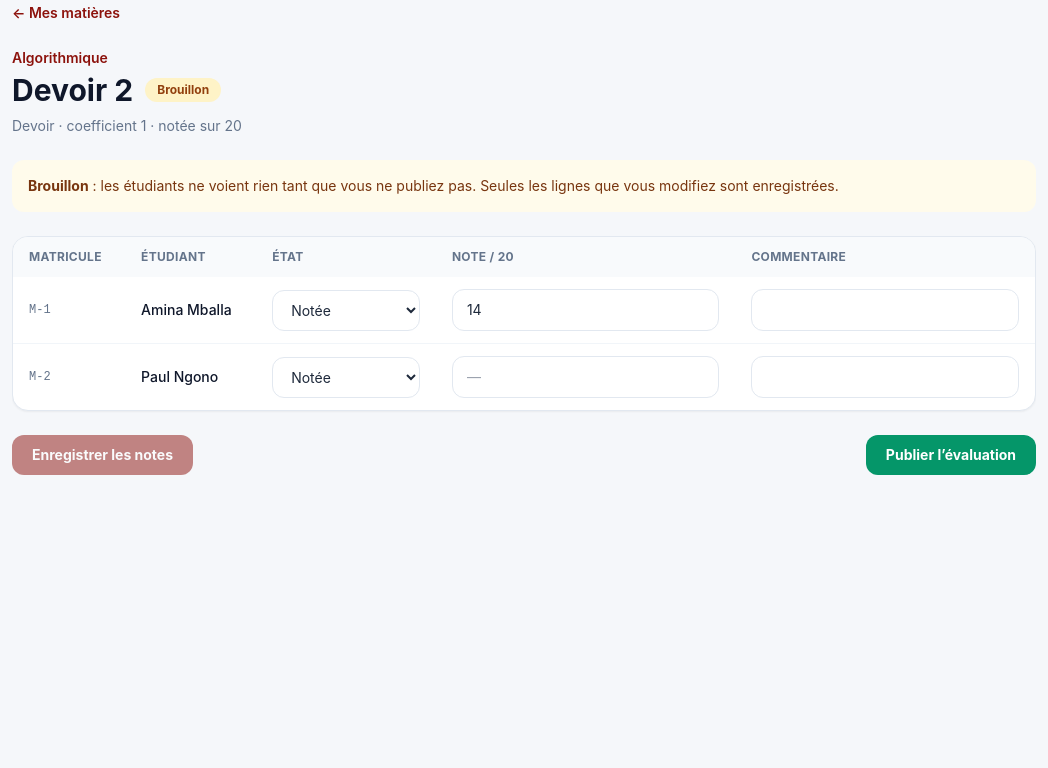
Test: grille de saisie des notes (brouillon) › n’envoie que les lignes modifiées, avec l’updatedAt lu, puis confirme
Step 1. Replace the text in the field named "Note de Amina Mballa" with "16" → point(586, 310), box [452,289,719,331]
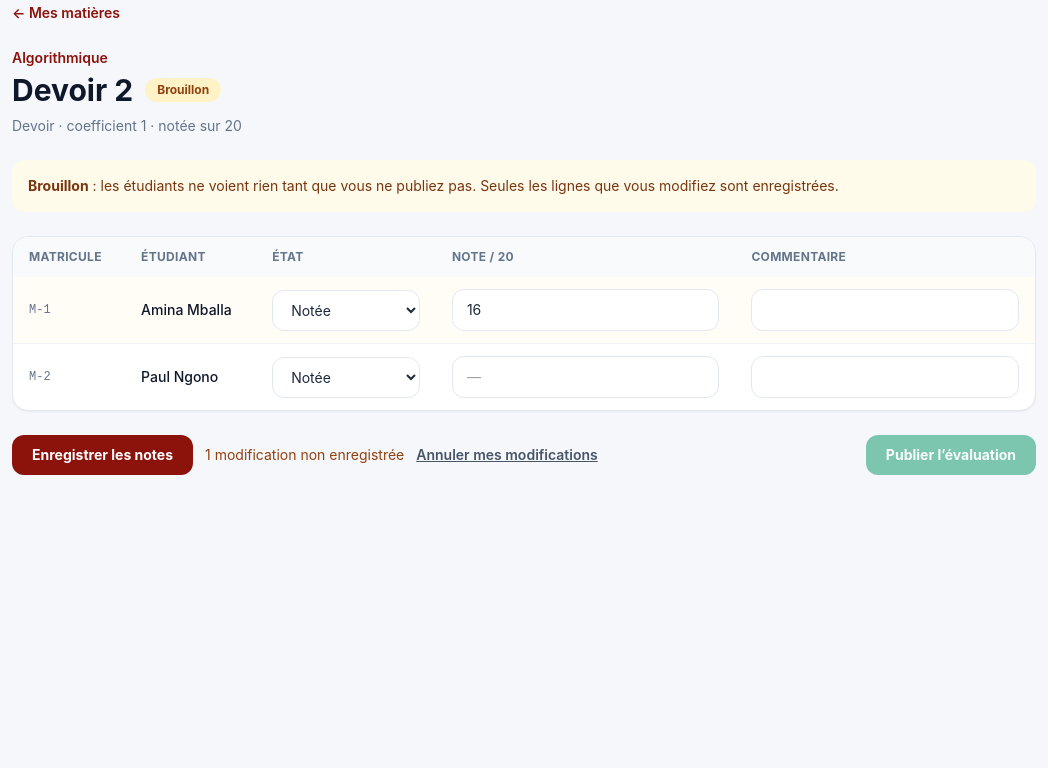
Step 2. Type "12,5" into the field named "Note de Paul Ngono" → point(586, 377), box [452,356,719,398]
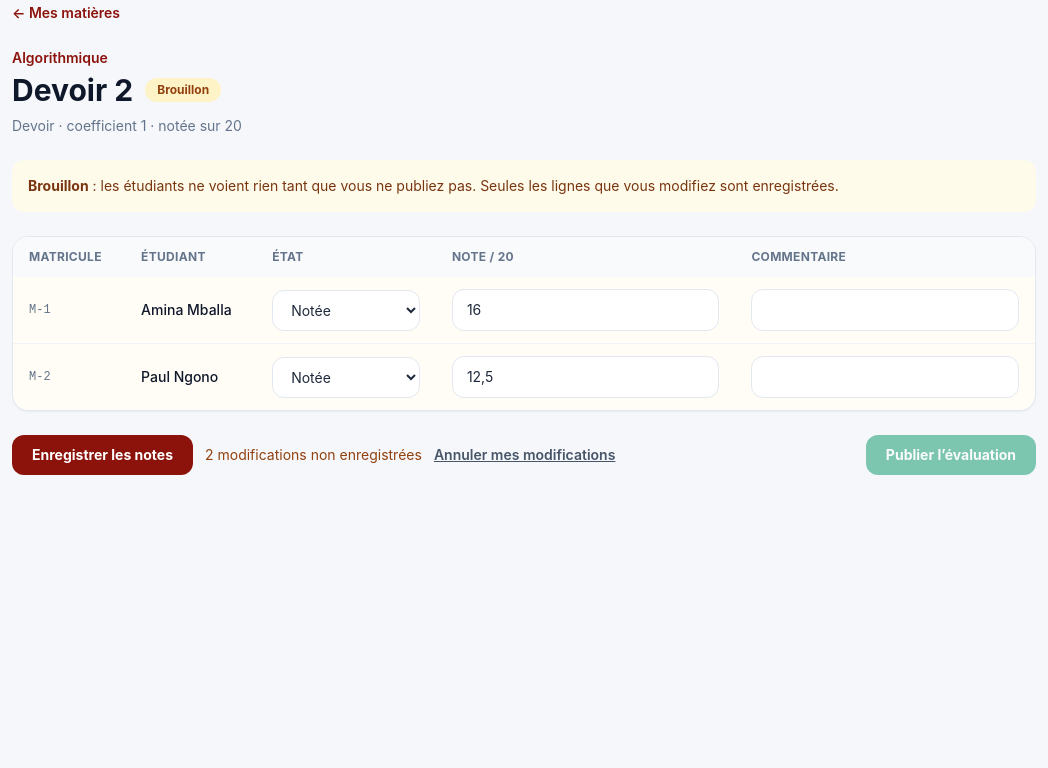
Expected: the button "Publier l’évaluation" is disabled, [866,435,1036,475]
Expected: the text "2 modifications non enregistrées" is shown, [205,445,422,465]
Step 3. Click the button "Enregistrer les notes" → point(102, 455), box [12,435,193,475]
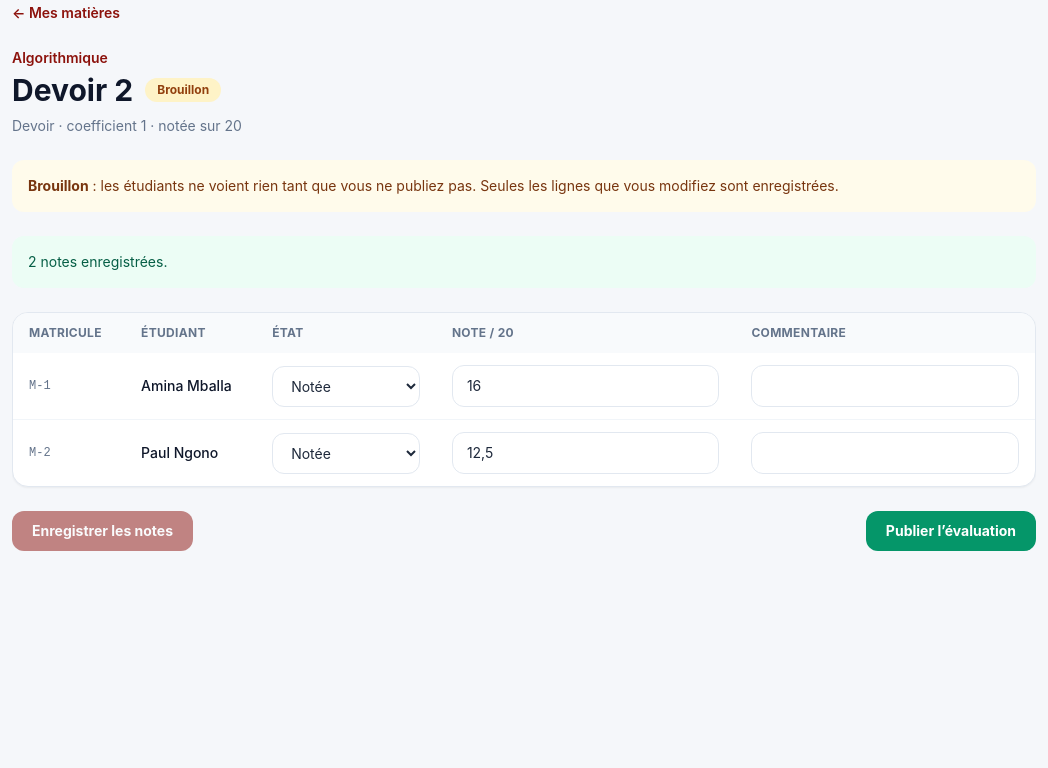
Expected: the message shows "2 notes enregistrées", [28,253,168,270]
Expected: the text "2 modifications non enregistrées" is gone
